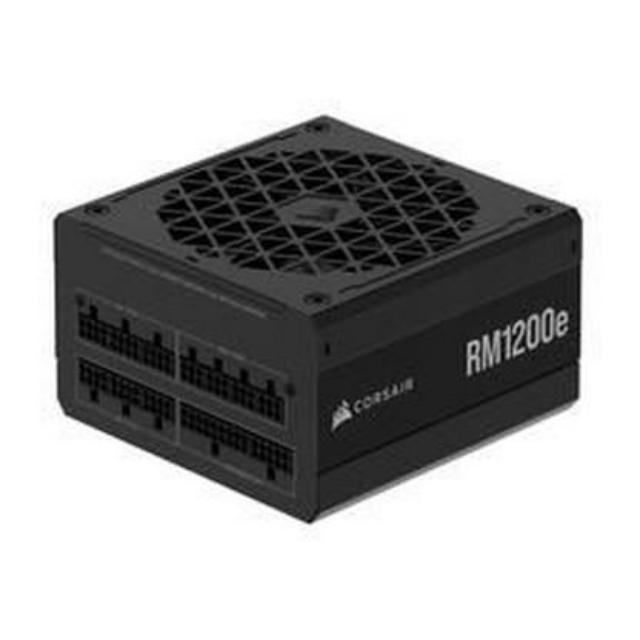PSU: (48, 110, 602, 535)
